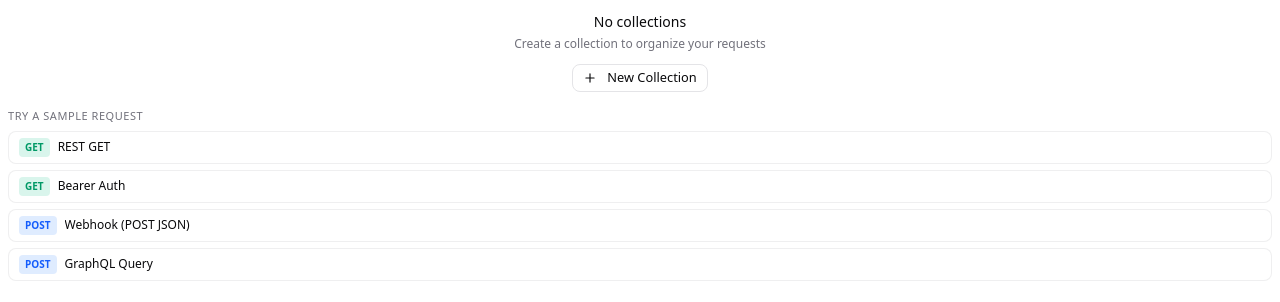
CollectionTree › reveals new collection input when New Collection is clicked
The image size is (1280, 302).
Click the button "New Collection" at (640, 78), box [572,64,708,92]
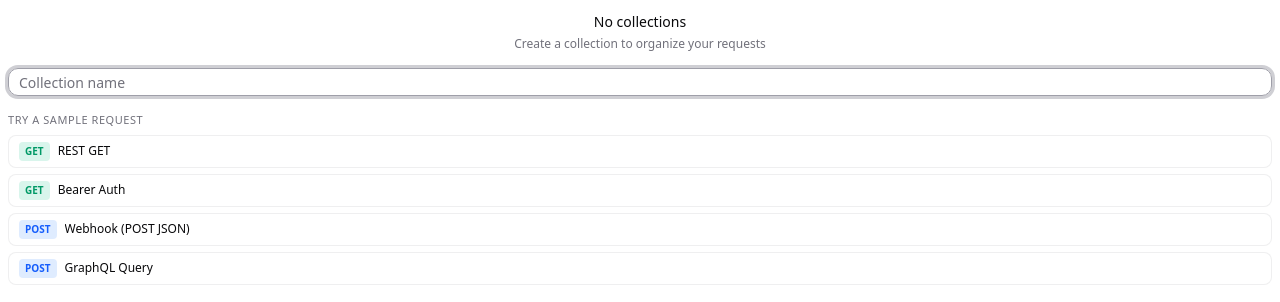
Now the field with test id "new-collection-name-input" is shown, box [8,68,1272,96]
